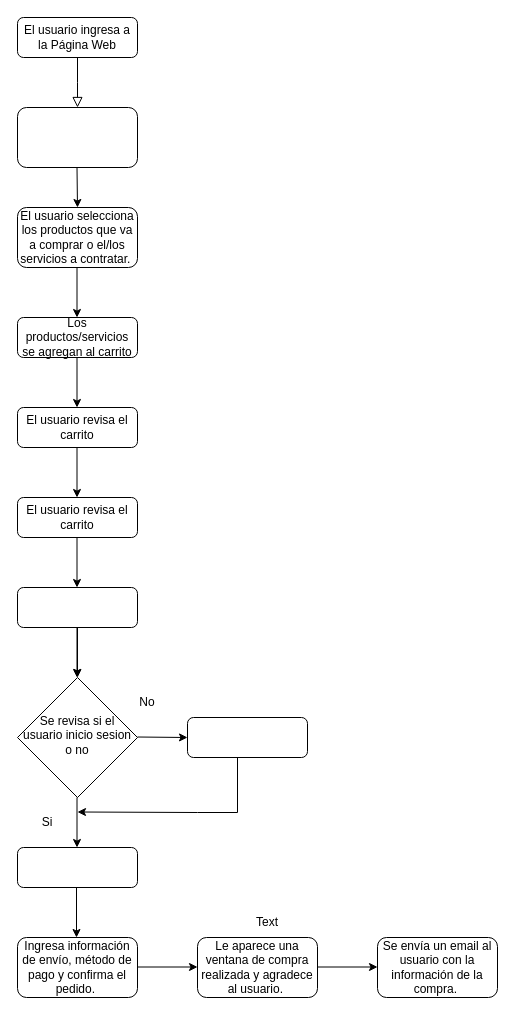
Image size: 515x1015. Some labels were removed from this diagram. The box of each missing label's shape, as (x1, y1, x2, y2) in pixels:
El usuario explora los productos o servicios que ofrece nuestra página: (16, 106, 138, 168)
El usuario inicia el proceso de pago: (16, 586, 138, 628)
El usuario se Registra: (186, 716, 308, 758)
Procede con el pago: (16, 846, 138, 888)
